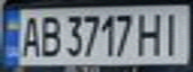1: (100, 11, 118, 57)
3: (63, 11, 84, 57)
7: (115, 10, 136, 57), (81, 11, 100, 57)
A: (15, 12, 42, 59)
B: (36, 11, 63, 58)
H: (136, 9, 166, 56)
I: (157, 8, 187, 56)
